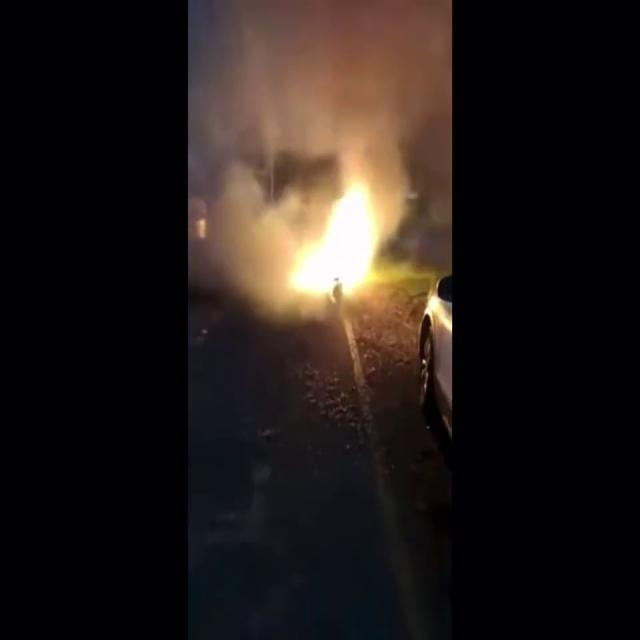Fire: (287, 165, 403, 307)
Smoke: (188, 0, 452, 177)
